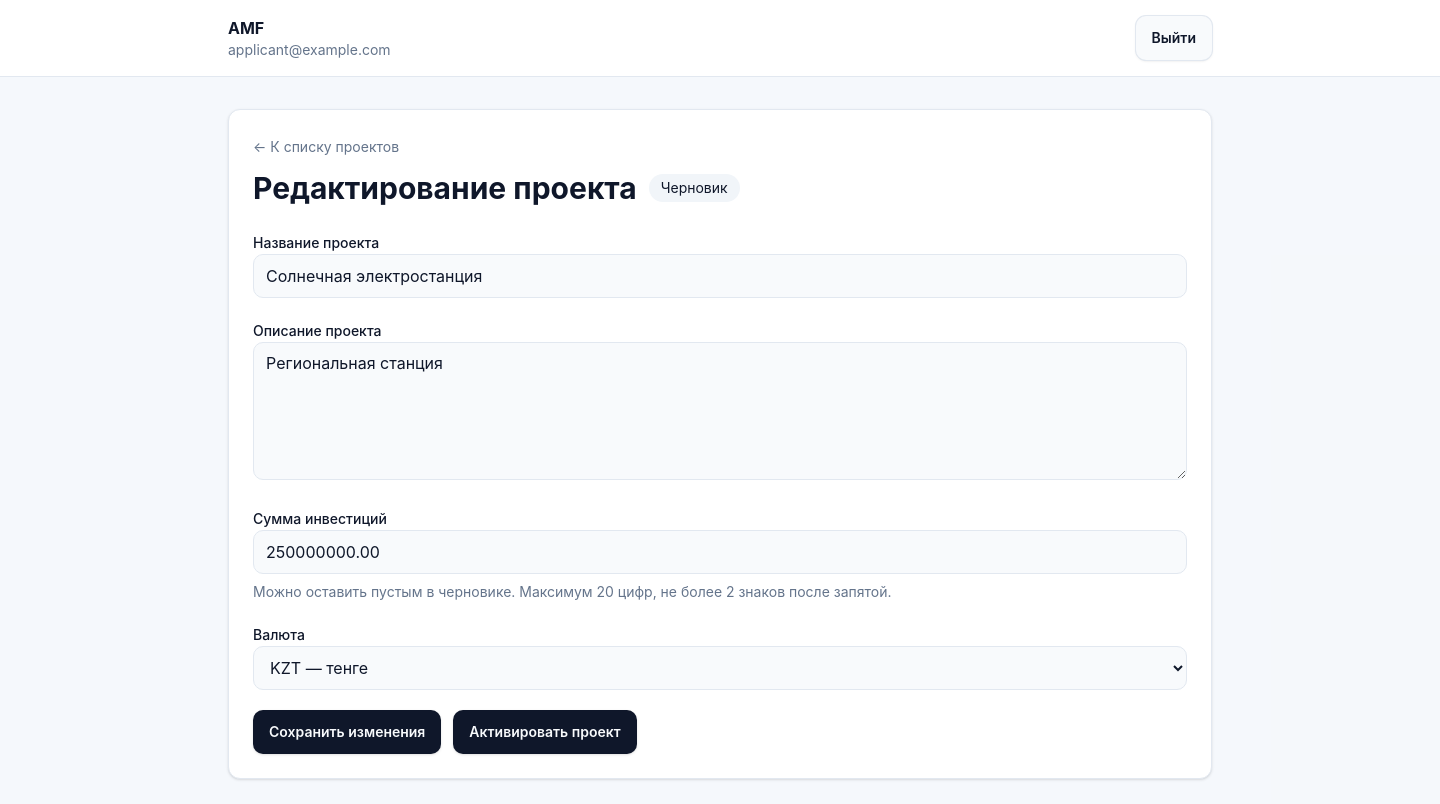
it: project editor › translates server validation codes into Russian field guidance
The width and height of the screenshot is (1440, 804).
Replace the text in the field labelled "Название проекта" with "Обновлённый проект" at (720, 276), box [253,254,1187,298]
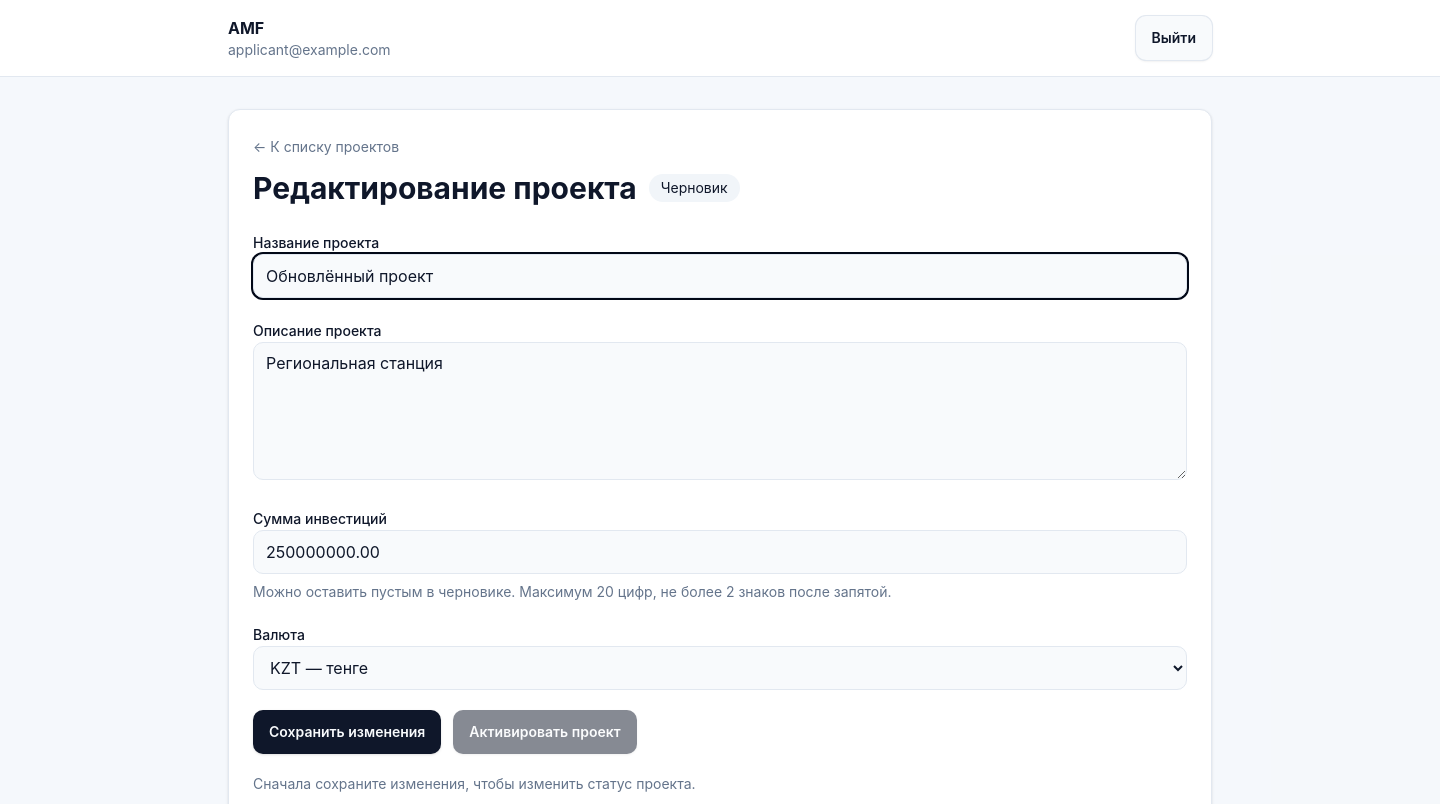
Click the button "Сохранить изменения" at (347, 732), box [253,710,441,754]
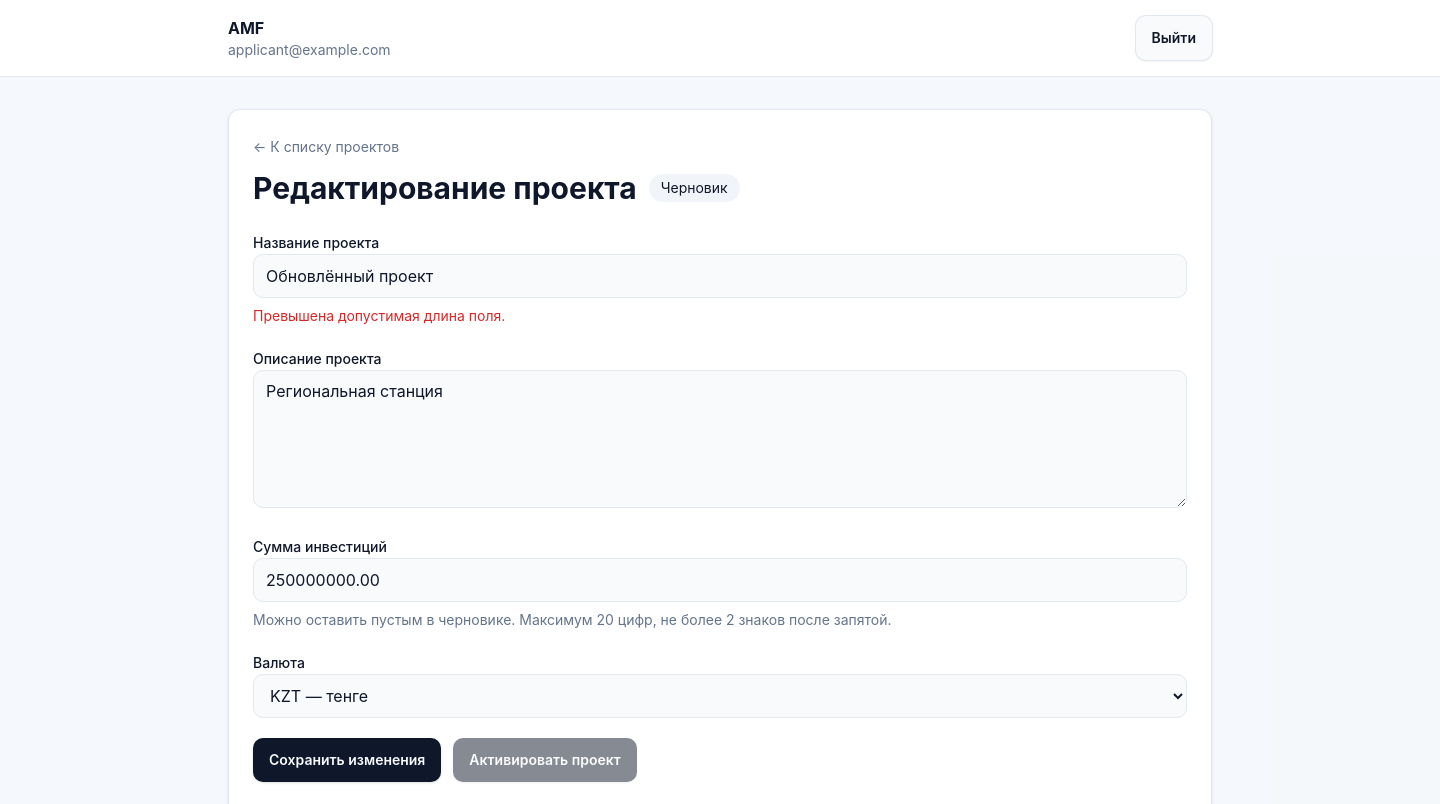
Check: the text "Превышена допустимая длина поля." is shown, box [253,307,505,324]
